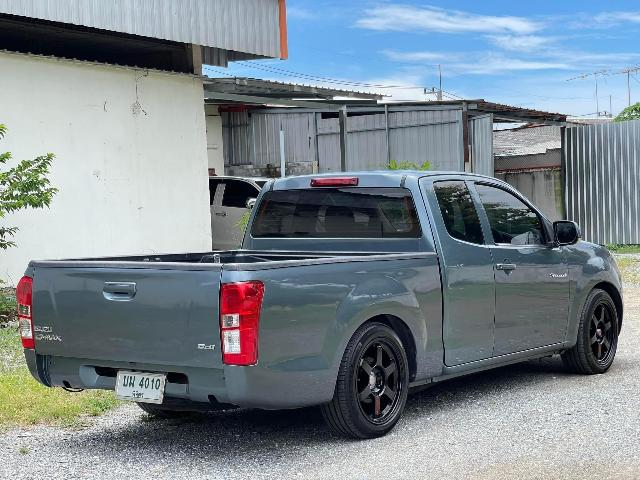pickup-truck: (5, 152, 631, 444)
